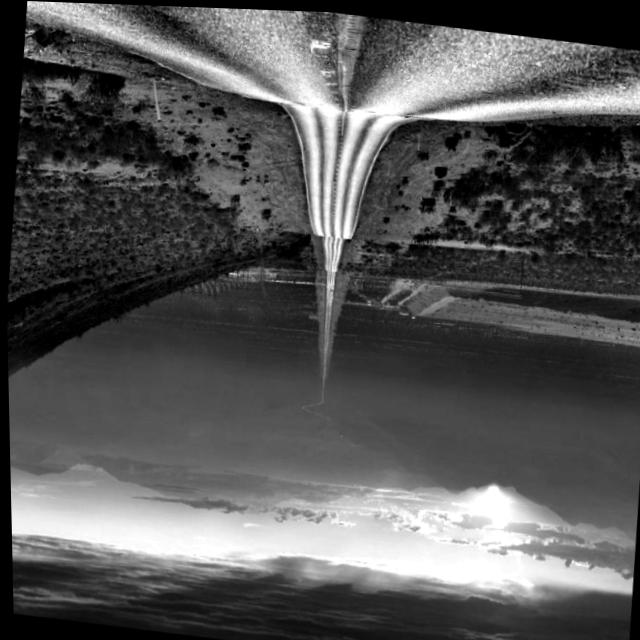cleat: (5, 1, 600, 456)
